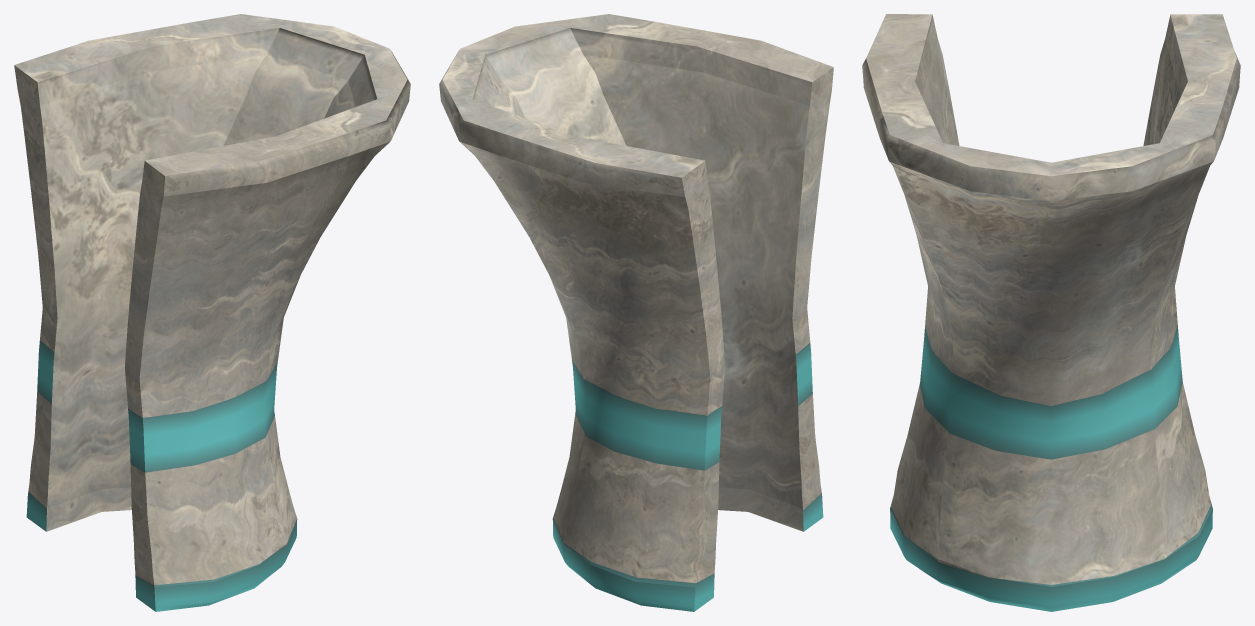
The model's file is WallLightModel.fbx.
The picture shows the model from 3 angles, left to right: view 1: azimuth 30°, elevation 25°; view 2: azimuth 150°, elevation 25°; view 3: azimuth 270°, elevation 25°; orthographic projection. The views are drawn at different scales.
Visible parts, largest first — view 1: pCube2; view 2: pCube2; view 3: pCube2.
Boxes of the visible parts, x1,y1,x2,y2 form: pCube2: (14, 14, 410, 611); pCube2: (439, 14, 833, 611); pCube2: (862, 14, 1240, 611).
Bounding box in the file's own units: 10.43 × 14.64 × 10.19.
1 material, 1 textured.
